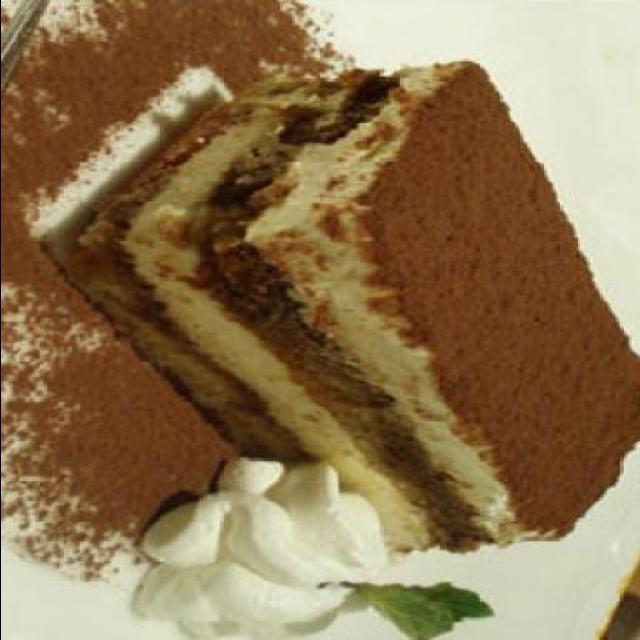Tiramisu: (122, 49, 636, 557)
